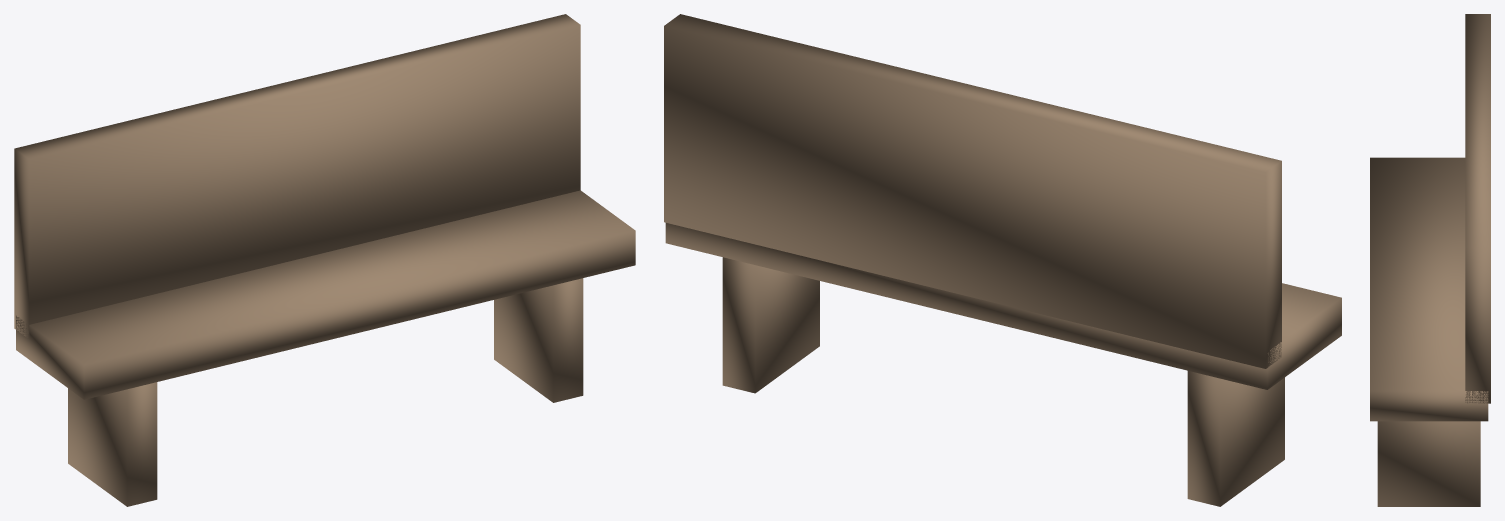
Rendered from church_pew__compact.glb.
3 views of the same model, side by side, from view 1: azimuth 30°, elevation 25°; view 2: azimuth 150°, elevation 25°; view 3: azimuth 270°, elevation 25° (orthographic). The views are drawn at different scales.
Parts seen in each view (by area): view 1: world; view 2: world; view 3: world.
Boxes of the visible parts, x1=… form: world: x1=14, y1=14, x2=635, y2=506; world: x1=664, y1=14, x2=1341, y2=506; world: x1=1370, y1=14, x2=1490, y2=506.
Bounding box in the file's own units: 1.85 × 1.03 × 0.4042.
